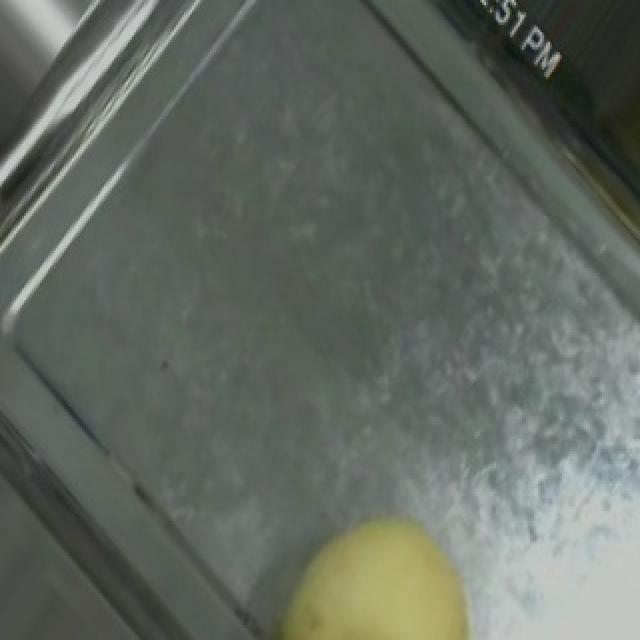Fruit: (242, 483, 504, 640)
